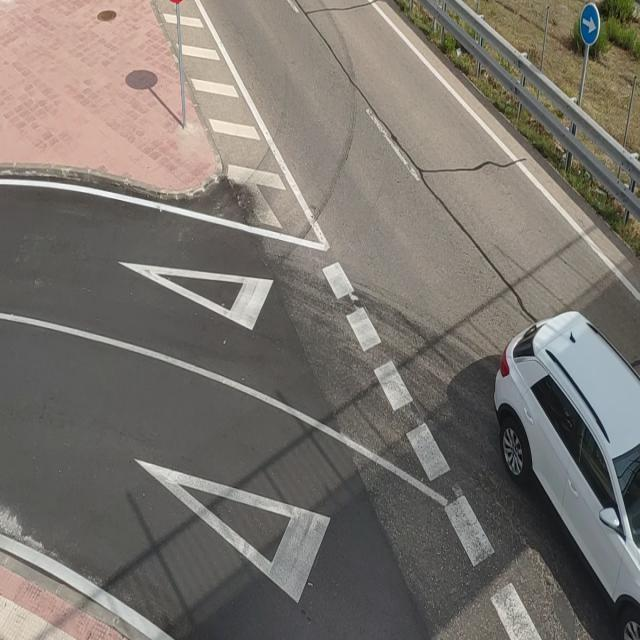Car: (495, 306, 640, 636)
